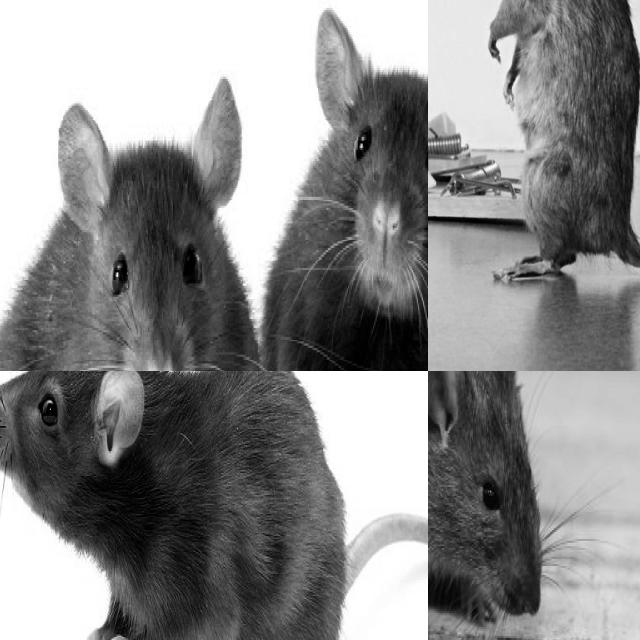rat: (0, 371, 346, 640), (0, 74, 263, 371), (287, 8, 428, 371), (475, 0, 640, 280), (428, 371, 543, 619)
